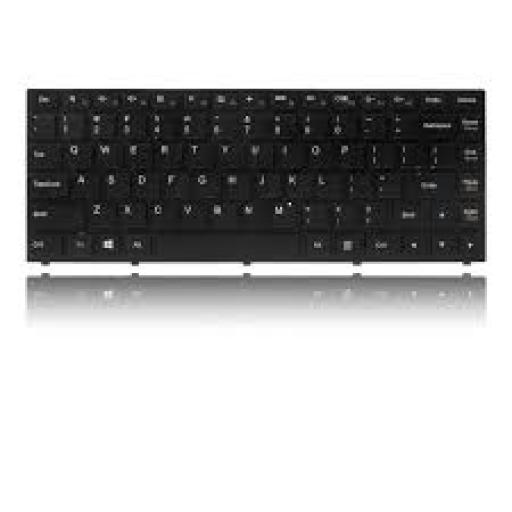keyboard: (27, 89, 485, 259)
